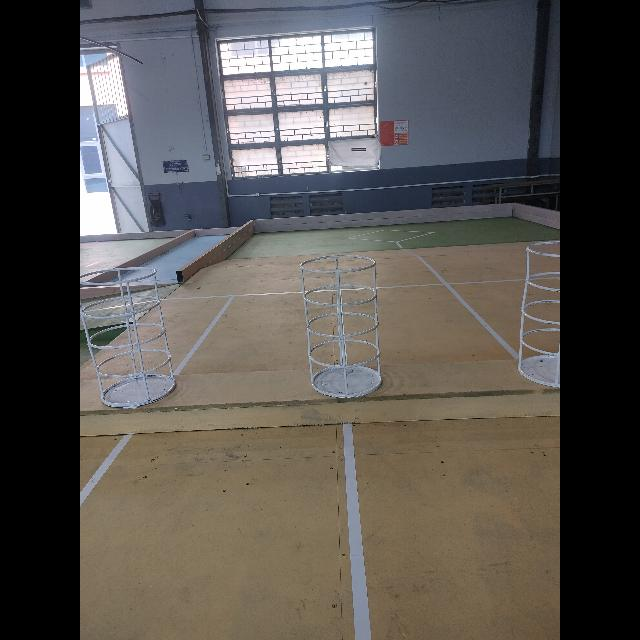S: (80, 262, 180, 409), (300, 250, 384, 402), (516, 238, 559, 394)
